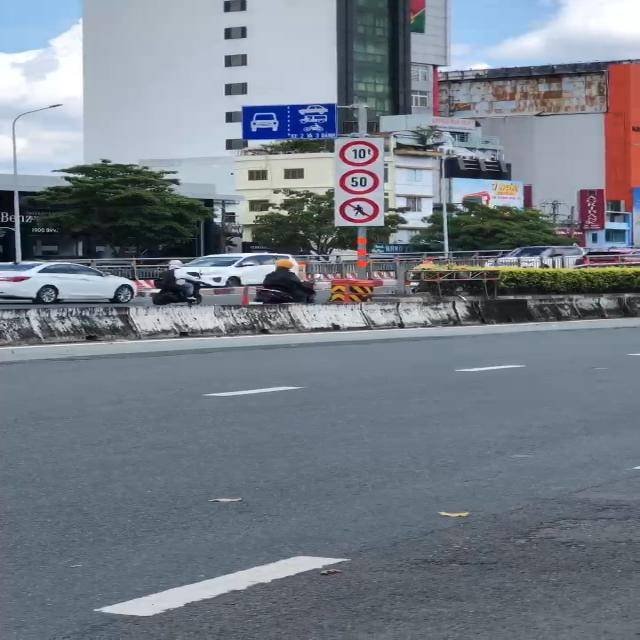Bien bao cam nguoi di bo: (337, 195, 382, 226)
Bien bao toc do toi da cho phep: (337, 170, 380, 196)
